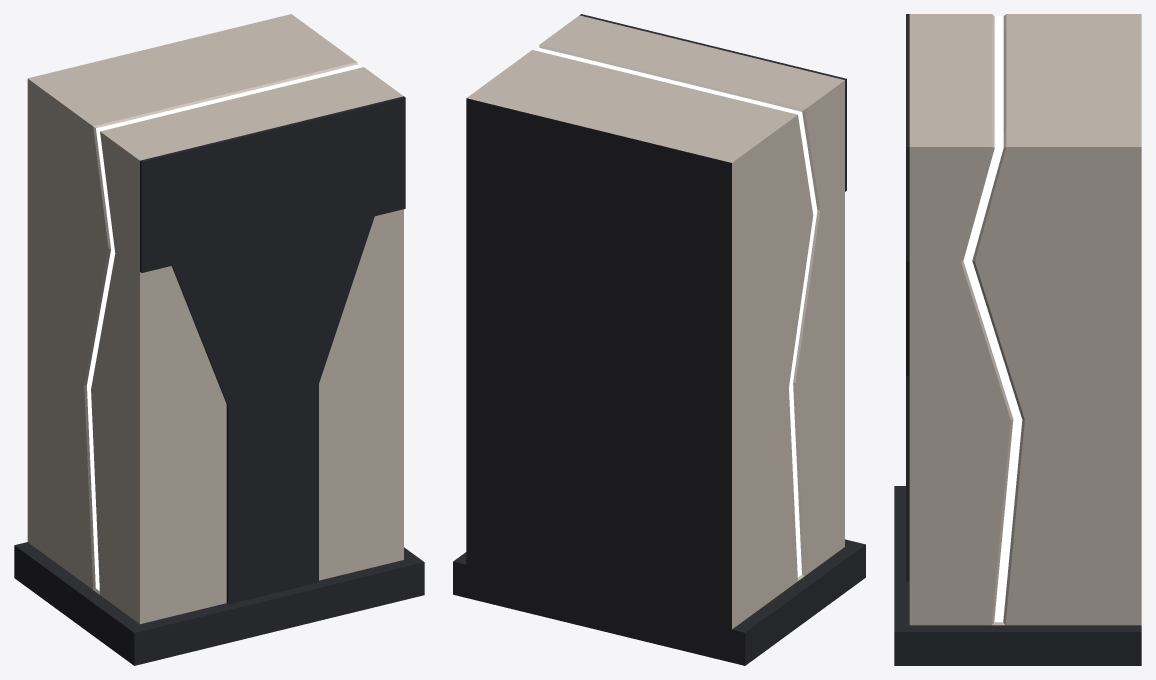
The model's file is SM_range_Hood.glb.
3 views of the same model, side by side, from view 1: azimuth 30°, elevation 25°; view 2: azimuth 150°, elevation 25°; view 3: azimuth 270°, elevation 25° (orthographic). The views are drawn at different scales.
Visible parts, largest first — view 1: SM_range_Hood.001; view 2: SM_range_Hood.001; view 3: SM_range_Hood.001.
Boxes of the visible parts, x1=… form: SM_range_Hood.001: x1=14, y1=14, x2=424, y2=665; SM_range_Hood.001: x1=453, y1=14, x2=865, y2=665; SM_range_Hood.001: x1=894, y1=14, x2=1141, y2=665.
Size of the model in its own units: 0.8797 by 1.45 by 0.6299.
Materials: 2 (1 with a texture image).
